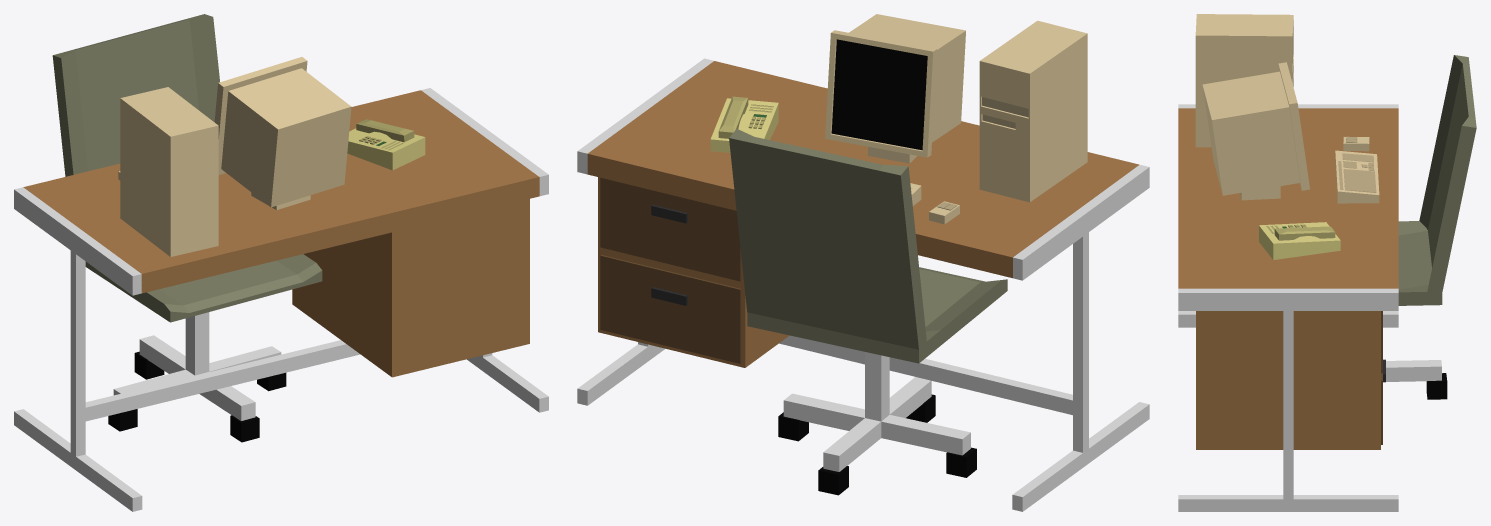
Rendered from desk setup.fbx.
3 renders of one model, left to right at view 1: azimuth 30°, elevation 25°; view 2: azimuth 150°, elevation 25°; view 3: azimuth 270°, elevation 25°, orthographic. The views are drawn at different scales.
Visible parts, largest first — view 1: Cube.004; view 2: Cube.004; view 3: Cube.004.
Part boxes in pixels (left/top/right/bottom): Cube.004: left=14, top=14, right=548, bottom=511; Cube.004: left=577, top=14, right=1149, bottom=511; Cube.004: left=1178, top=14, right=1476, bottom=511.
Size of the model in its own units: 1239 by 1017 by 828.
